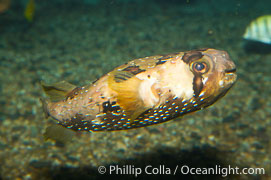Diodon_holocanthus: (38, 42, 238, 130)
